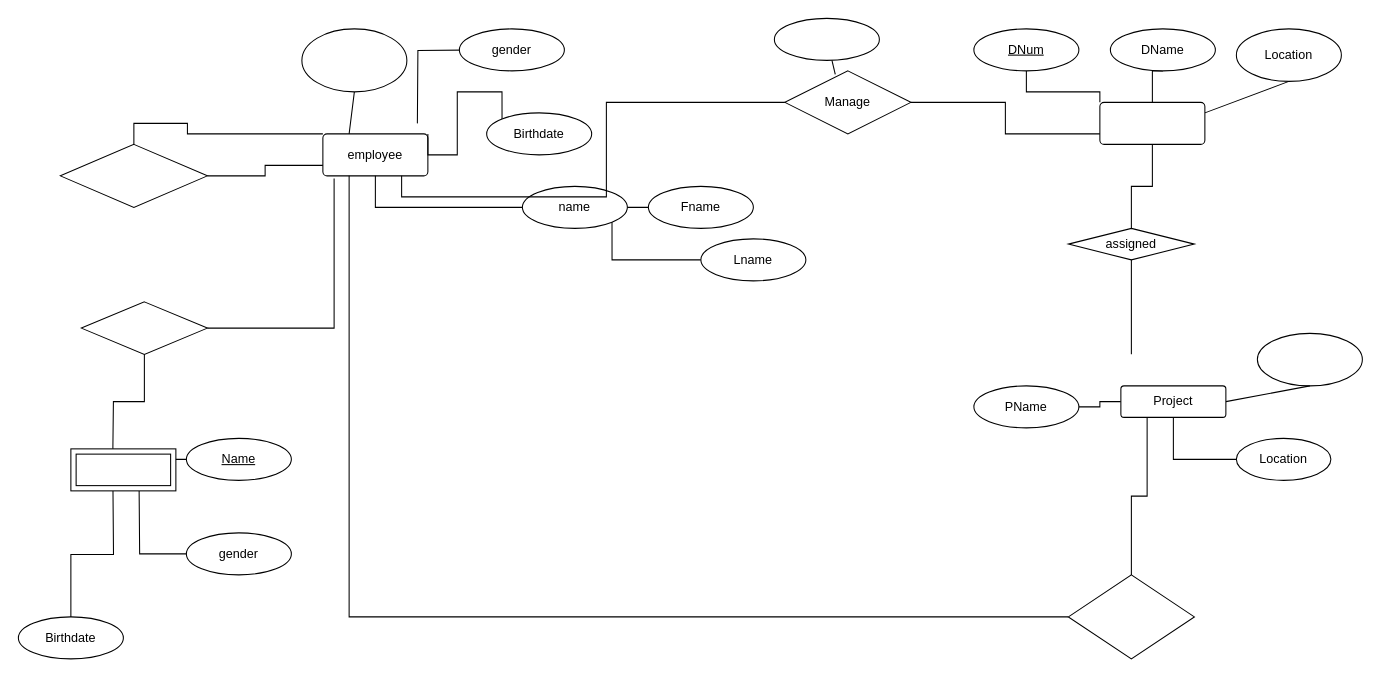
Some shapes in this 1381 by 677 pixel diagram are drawn without their labels. The centre of each missing label's shape, as x and y in pixels:
department: the point at 1152,122
dependent: the point at 123,469
have: the point at 143,327
hiring date: the point at 826,38
PNum: the point at 1309,359
ssn: the point at 354,60
suber: the point at 133,175
Work: the point at 1130,616
